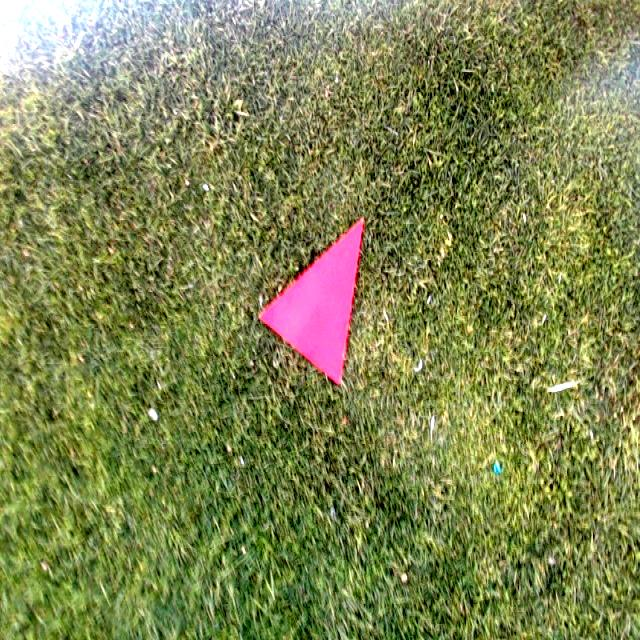red_triangle: (262, 217, 365, 382)
